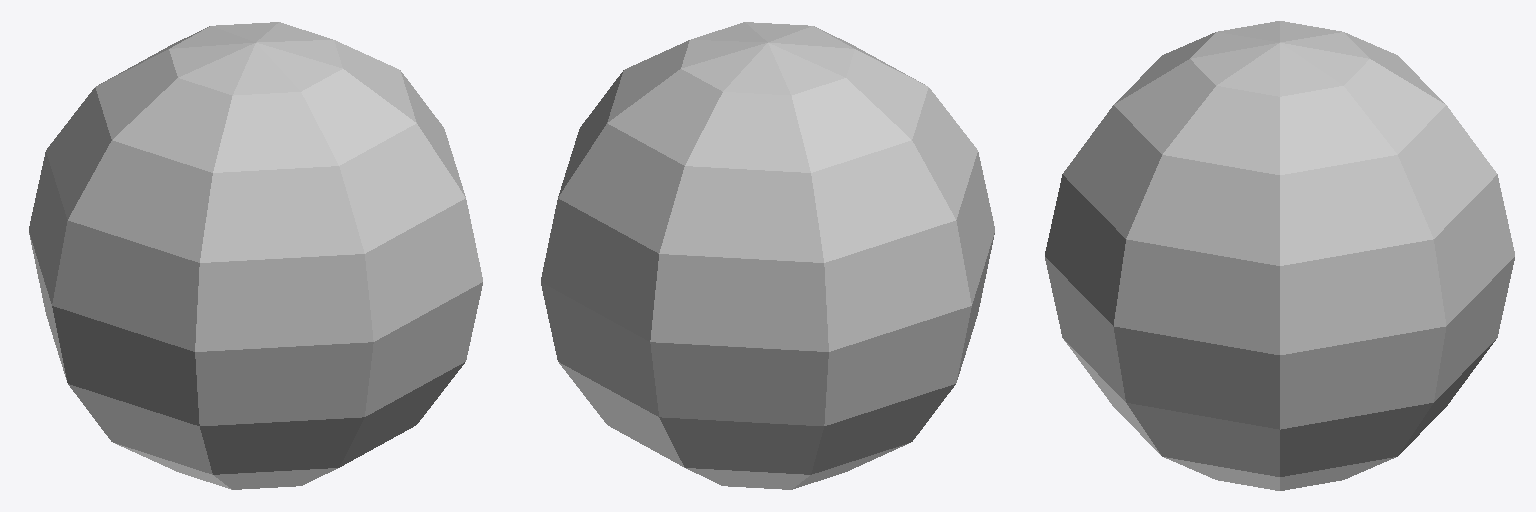
The model's file is Proyectile.obj.
3 views of the same model, side by side, from view 1: azimuth 30°, elevation 25°; view 2: azimuth 150°, elevation 25°; view 3: azimuth 270°, elevation 25° (orthographic).
Visible parts, largest first — view 1: Proyectile_Sphere; view 2: Proyectile_Sphere; view 3: Proyectile_Sphere.
Part boxes in pixels (x1,y1,x2,y2): Proyectile_Sphere: (29,22,482,489); Proyectile_Sphere: (541,22,994,489); Proyectile_Sphere: (1045,21,1514,490).
Size of the model in its own units: 0.24 by 0.24 by 0.24.